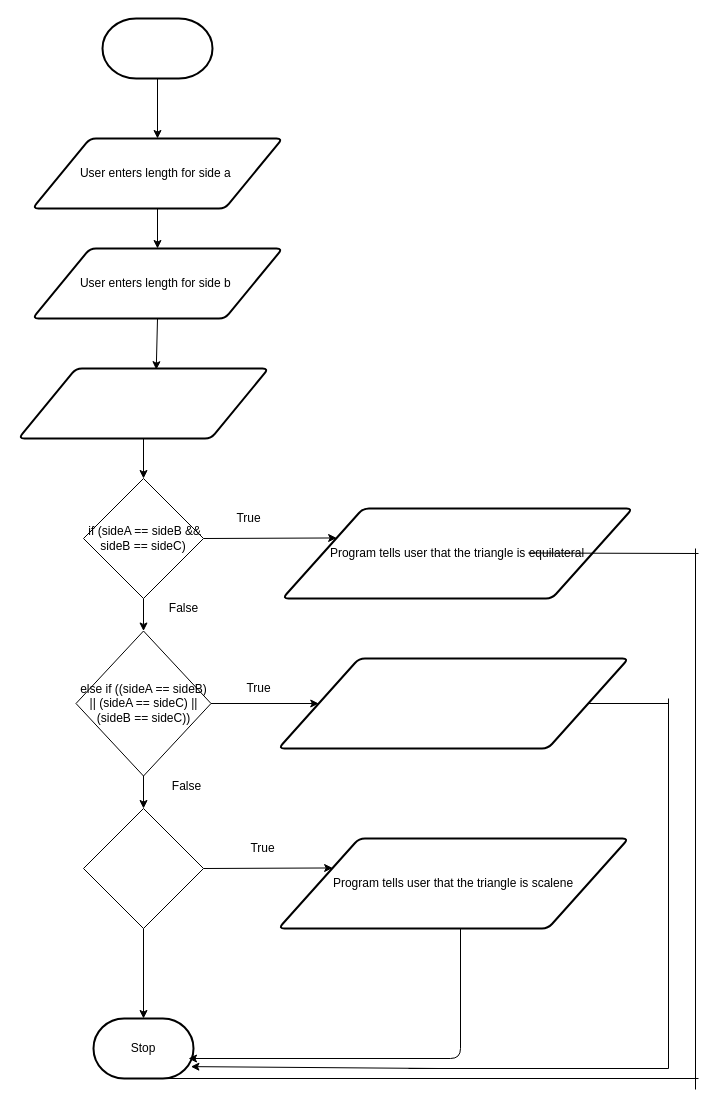
Some shapes in this 717 by 1108 pixel diagram are drawn without their labels. Here are the shapes that lost their labels. From the top down, the centre of each, then its label:
the point at 157,48: Start
the point at 143,403: User enters length for side c
the point at 453,703: Program tells user that the triangle is isosceles
the point at 143,868: else
